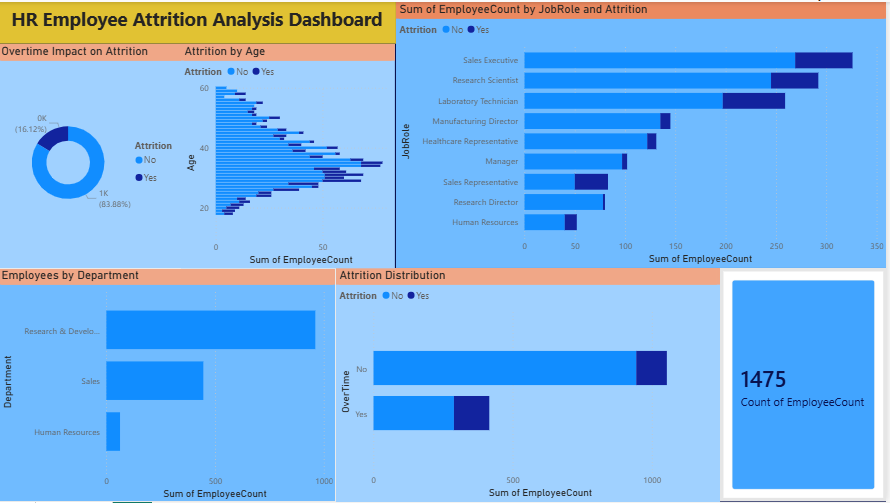

This screenshot's page, from the dashboard's own definition file:
{"tool":"powerbi","page":{"name":"Page 2","canvas":[1280,720],"ordinal":1},"visuals":[{"type":"donutChart","title":"Overtime Impact on Attrition","fields":{"Category":["WA_Fn-UseC_-HR-Employee-Attrition.Attrition"],"Y":["Sum(WA_Fn-UseC_-HR-Employee-Attrition.EmployeeCount)"]},"box":[0,60.3,272.9,322.6],"z":0},{"type":"barChart","title":"Employees by Department","fields":{"Category":["WA_Fn-UseC_-HR-Employee-Attrition.Department"],"Y":["Sum(WA_Fn-UseC_-HR-Employee-Attrition.EmployeeCount)"]},"box":[0,383,487.1,337.6],"z":1000},{"type":"barChart","title":"Attrition Distribution","fields":{"Category":["WA_Fn-UseC_-HR-Employee-Attrition.OverTime"],"Y":["Sum(WA_Fn-UseC_-HR-Employee-Attrition.EmployeeCount)"],"Series":["WA_Fn-UseC_-HR-Employee-Attrition.Attrition"]},"box":[486.8,383.4,552.6,336.4],"z":2000},{"type":"barChart","title":"Attrition by Age","fields":{"Category":["WA_Fn-UseC_-HR-Employee-Attrition.Age"],"Y":["Sum(WA_Fn-UseC_-HR-Employee-Attrition.EmployeeCount)"],"Series":["WA_Fn-UseC_-HR-Employee-Attrition.Attrition"]},"box":[263.1,60.1,308.3,323.3],"z":3000},{"type":"textbox","box":[0,0,572.8,60.5],"z":4000},{"type":"cardVisual","fields":{"Data":["CountNonNull(WA_Fn-UseC_-HR-Employee-Attrition.EmployeeCount)"]},"box":[1039.4,383.4,240.6,336.4],"z":5000},{"type":"barChart","fields":{"Category":["WA_Fn-UseC_-HR-Employee-Attrition.JobRole"],"Y":["Sum(WA_Fn-UseC_-HR-Employee-Attrition.EmployeeCount)"],"Series":["WA_Fn-UseC_-HR-Employee-Attrition.Attrition"]},"box":[572.8,0,707.2,383],"z":6000}]}

Visuals, with their boxes in screenshot pixels (x1, y1, x2, y2), scaled from the page's 1280x720 canvas onto the 890x503 screenshot:
"Overtime Impact on Attrition" donutChart: <region>0, 42, 190, 267</region>
"Employees by Department" barChart: <region>0, 268, 339, 502</region>
"Attrition Distribution" barChart: <region>338, 268, 723, 502</region>
"Attrition by Age" barChart: <region>183, 42, 397, 268</region>
textbox: <region>0, 0, 398, 42</region>
cardVisual - CountNonNull(WA_Fn-UseC_-HR-Employee-Attrition.EmployeeCount): <region>723, 268, 889, 502</region>
barChart - WA_Fn-UseC_-HR-Employee-Attrition.JobRole x Sum(WA_Fn-UseC_-HR-Employee-Attrition.EmployeeCount): <region>398, 0, 889, 268</region>
